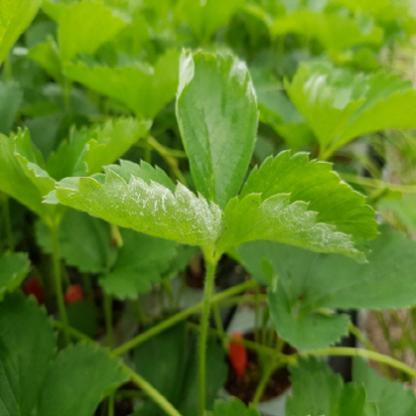Strawberry_Powdery_Mildew_Leaf: (216, 148, 379, 264), (41, 157, 221, 247), (173, 46, 259, 207)
